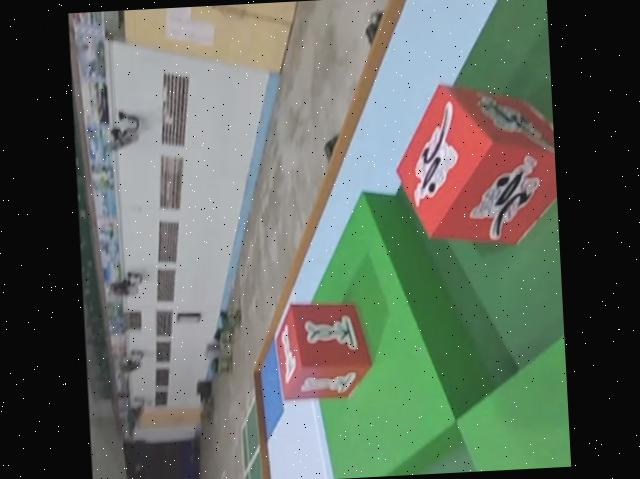R1: (388, 76, 561, 253)
R2 Real: (271, 295, 375, 403)
